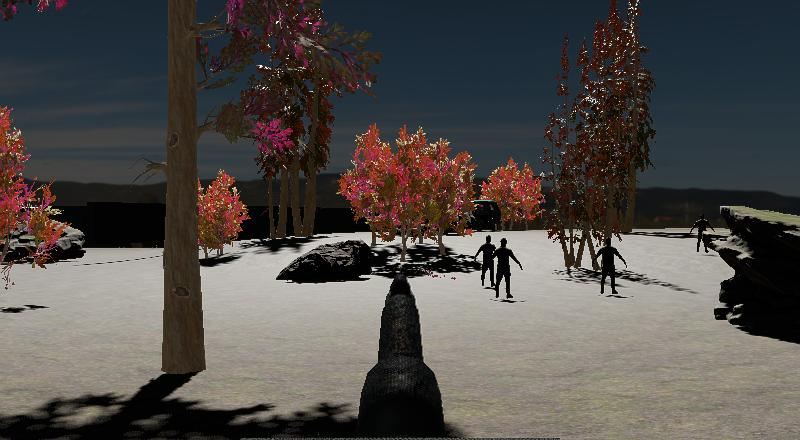Human: (491, 235, 524, 301), (594, 234, 628, 297)
